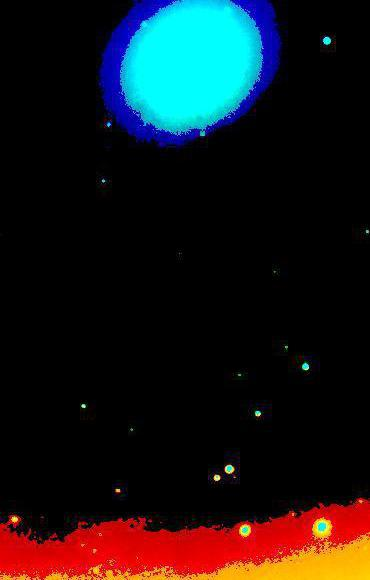star: (185, 120, 215, 150)
